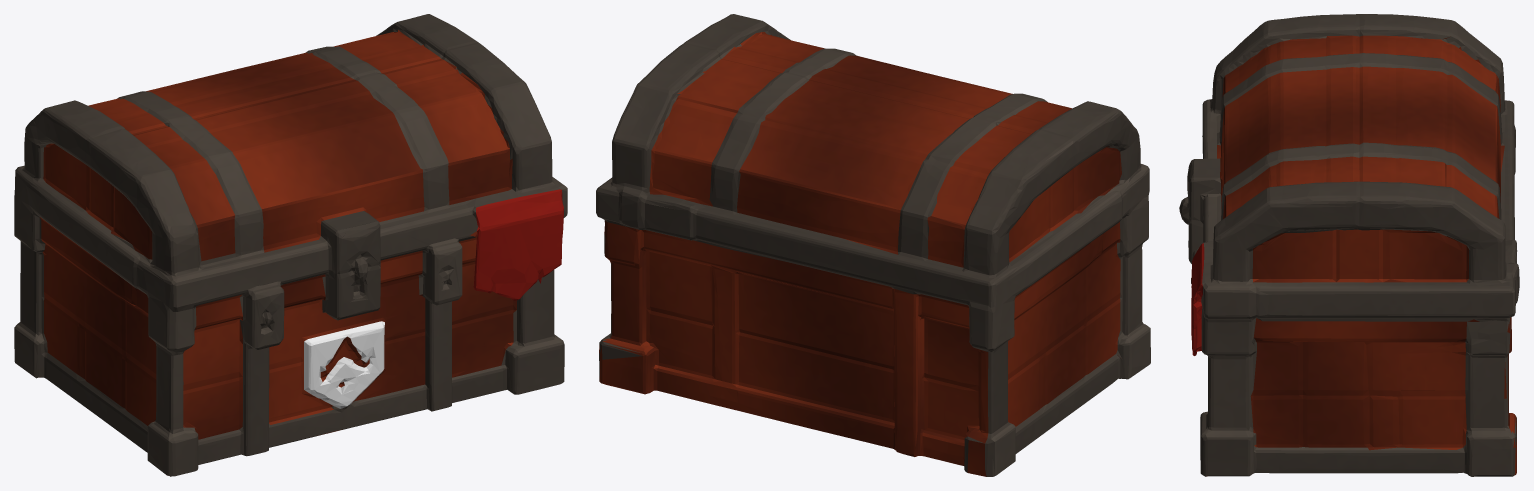
The model's file is Chest.fbx.
3 renders of one model, left to right at view 1: azimuth 30°, elevation 25°; view 2: azimuth 150°, elevation 25°; view 3: azimuth 270°, elevation 25°, orthographic. The views are drawn at different scales.
Visible parts, largest first — view 1: Chest; view 2: Chest; view 3: Chest.
Part boxes in pixels (x1,y1,x2,y2): Chest: (14, 14, 567, 476); Chest: (596, 14, 1150, 476); Chest: (1179, 14, 1519, 476).
Bounding box in the file's own units: 1.75 × 1.18 × 1.31.
